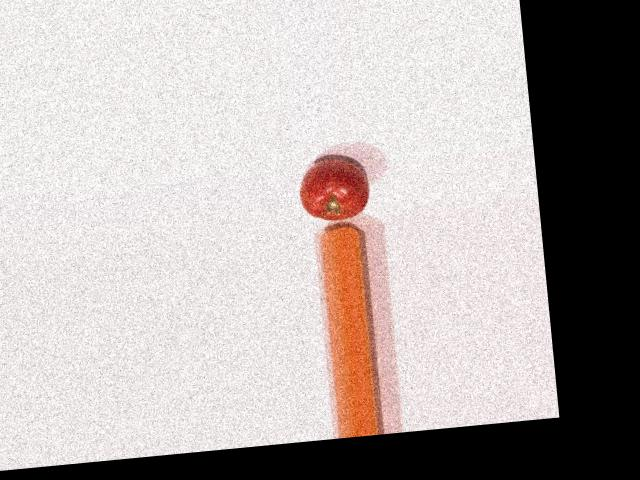tomato: (296, 156, 370, 222)
